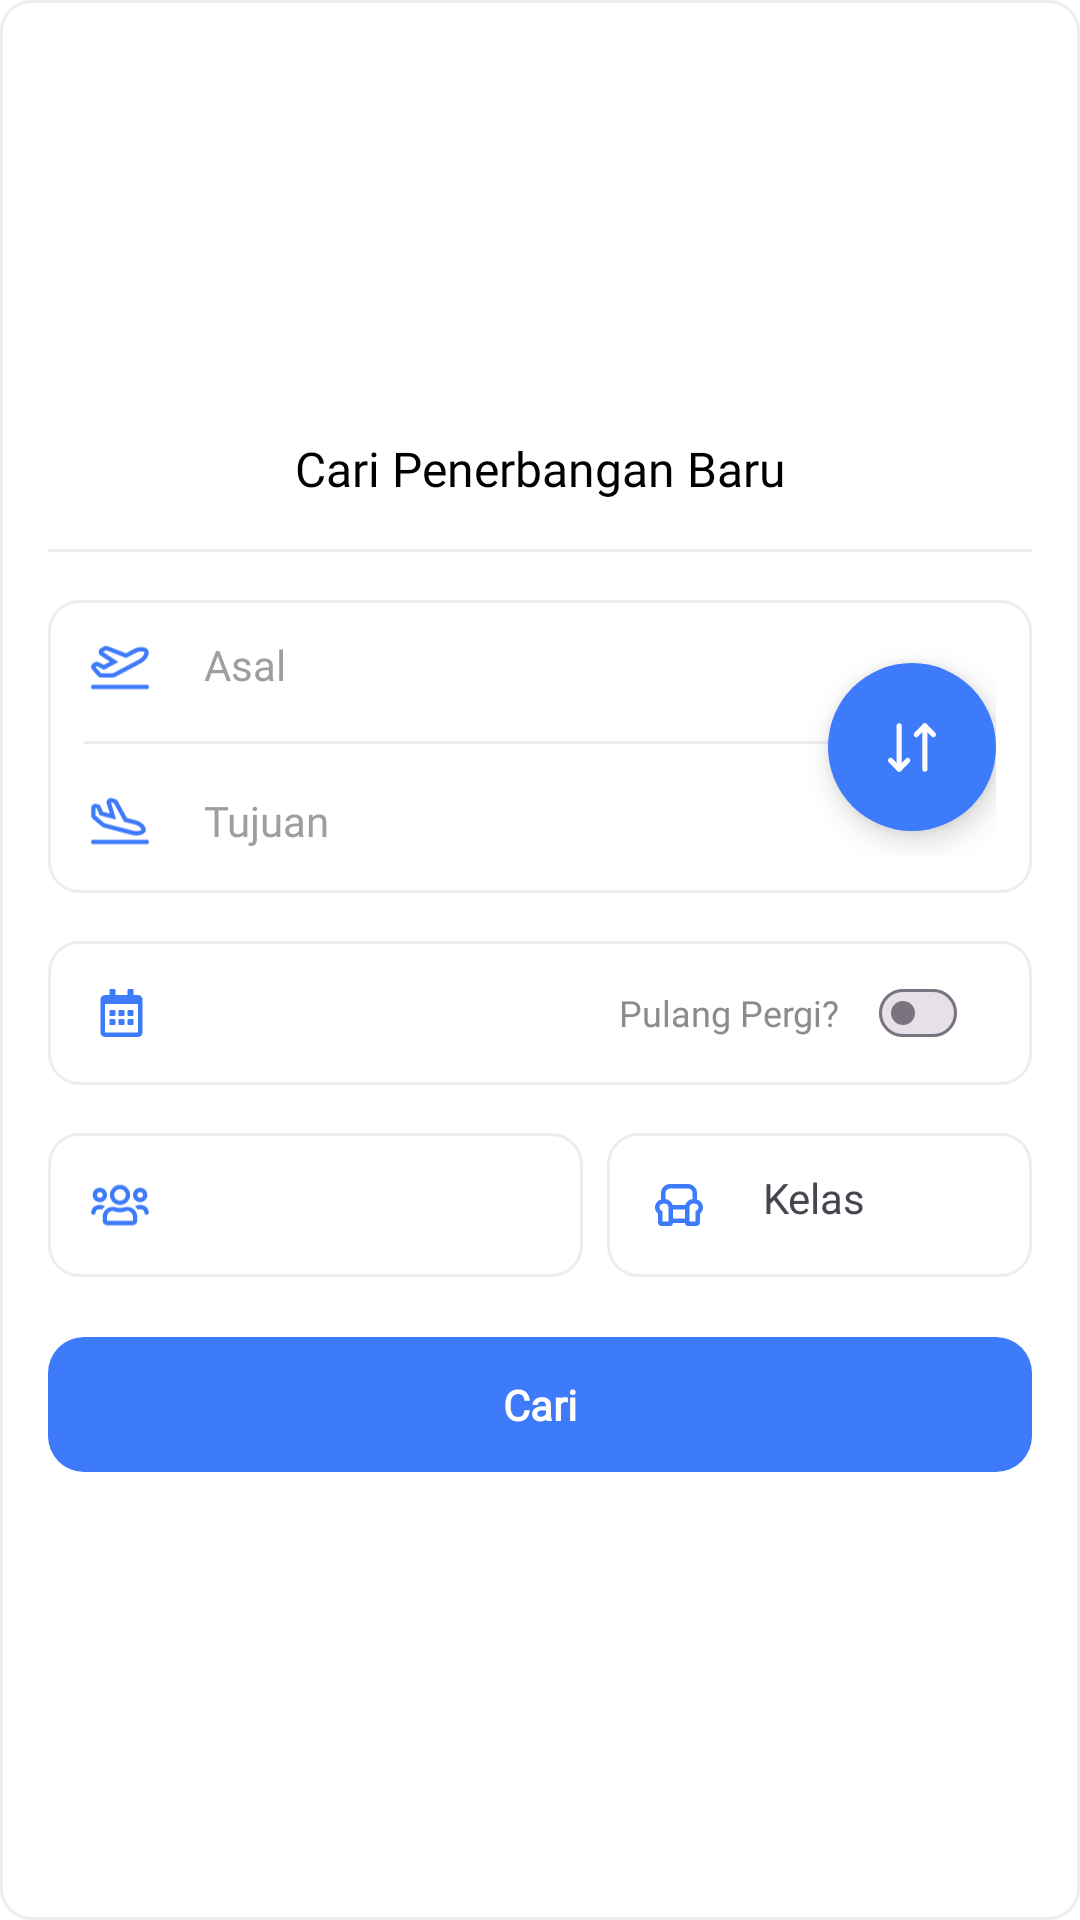

Point at icon controls on the screen. Image size 1080x1920, points as (x,y).
Memilih tanggal keberangatan: (121,1013)
Mengubah destinasi tiket: (912,747)
plane arrival: (120,821)
plane departure: (120,667)
seat: (679,1205)
users: (120,1205)
